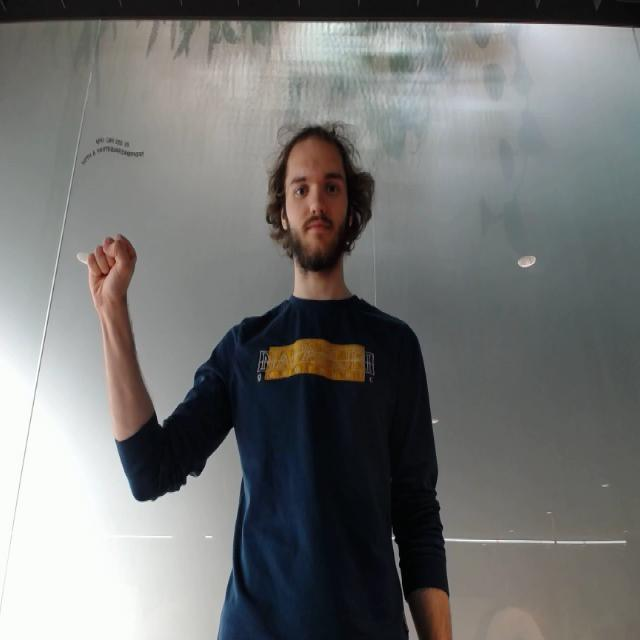stop: (79, 235, 140, 298)
